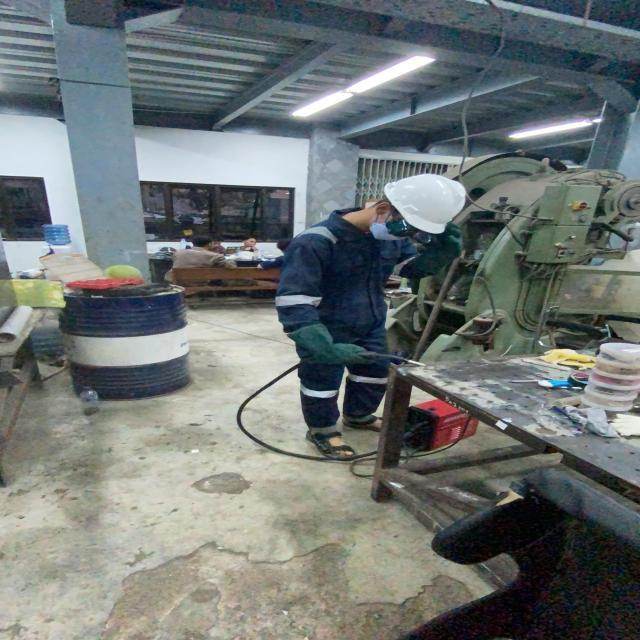glasses: (382, 214, 442, 247)
